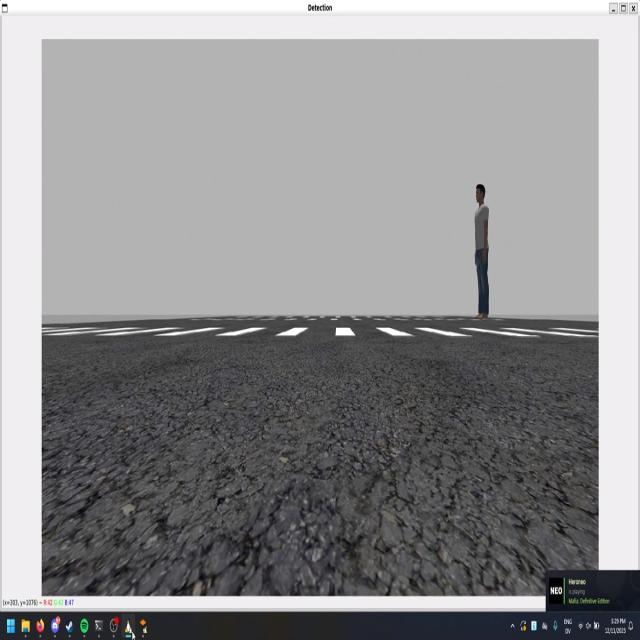crosswalk: (42, 327, 598, 338)
ped: (473, 182, 492, 321)
